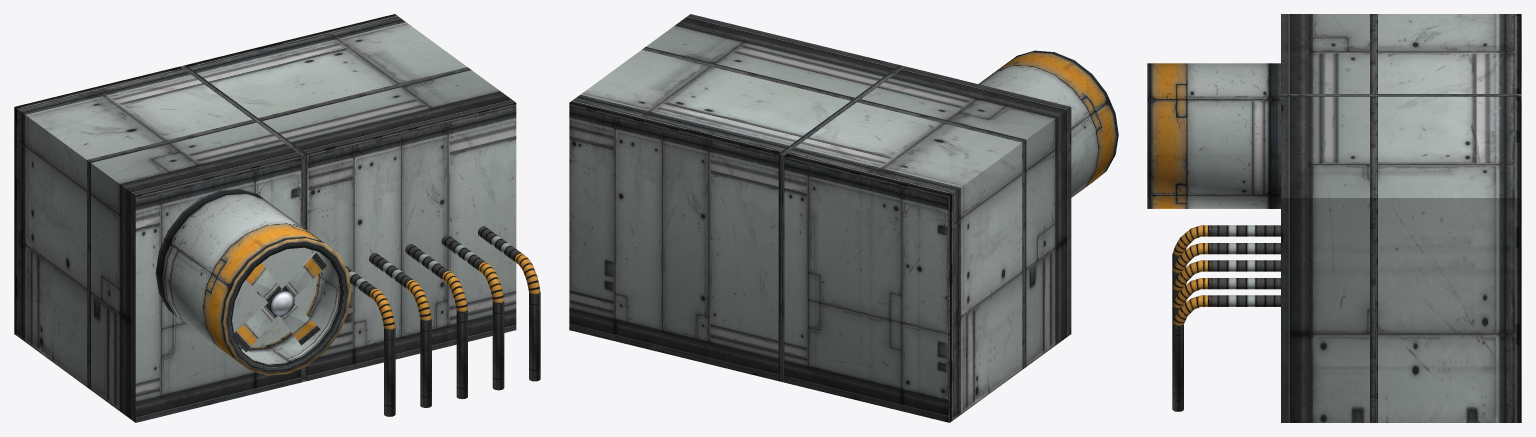
File: controleestufa.fbx
3 views of the same model, side by side, from view 1: azimuth 30°, elevation 25°; view 2: azimuth 150°, elevation 25°; view 3: azimuth 270°, elevation 25° (orthographic).
Parts seen in each view (by area): view 1: Cylinder, Cylinder.001; view 2: Cylinder; view 3: Cylinder.
Part boxes in pixels (bbox=[...]): Cylinder: bbox=[14, 14, 540, 422]; Cylinder.001: bbox=[234, 252, 326, 352]; Cylinder: bbox=[569, 14, 1118, 422]; Cylinder: bbox=[1147, 14, 1521, 422].
Bounding box in the file's own units: 6.3 × 3.64 × 5.41.
